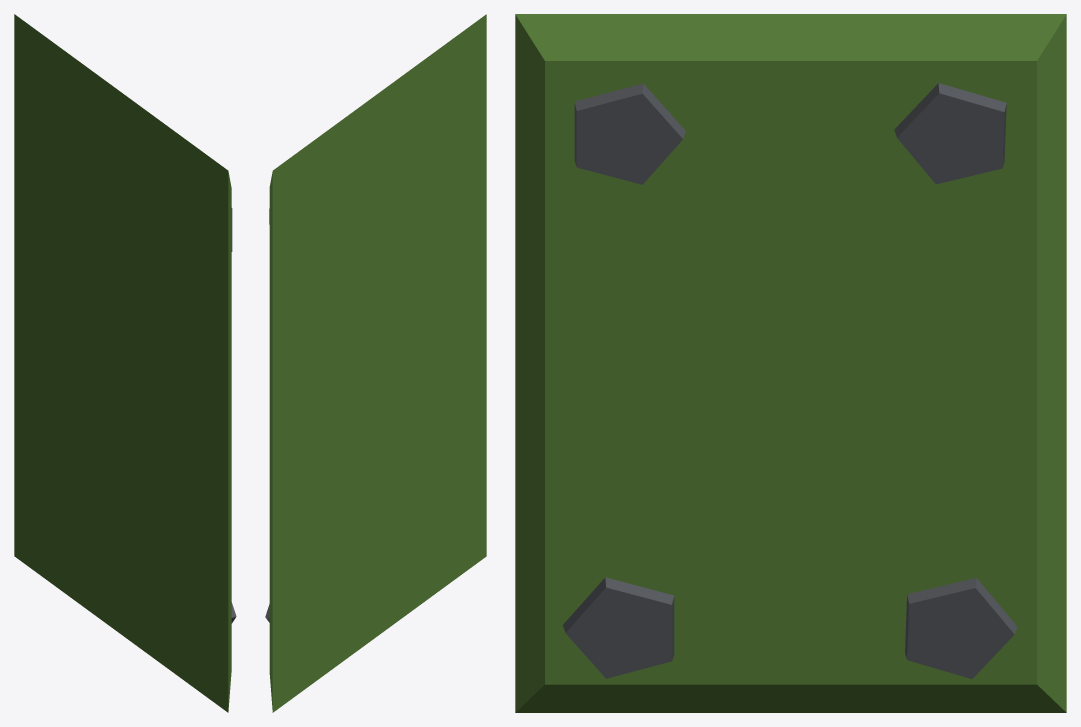
File: NutriMaxMaintPanel.glb
3 renders of one model, left to right at view 1: azimuth 30°, elevation 25°; view 2: azimuth 150°, elevation 25°; view 3: azimuth 270°, elevation 25°, orthographic. The views are drawn at different scales.
Visible parts, largest first — view 1: NutriMaxMaintPanel; view 2: NutriMaxMaintPanel; view 3: NutriMaxMaintPanel.
Boxes of the visible parts, x1,y1,x2,y2 form: NutriMaxMaintPanel: (14, 14, 236, 712); NutriMaxMaintPanel: (265, 14, 486, 712); NutriMaxMaintPanel: (515, 14, 1066, 712).
Bounding box in the file's own units: 0.022 × 0.4106 × 0.2936.
Materials: 1 (1 with a texture image).
